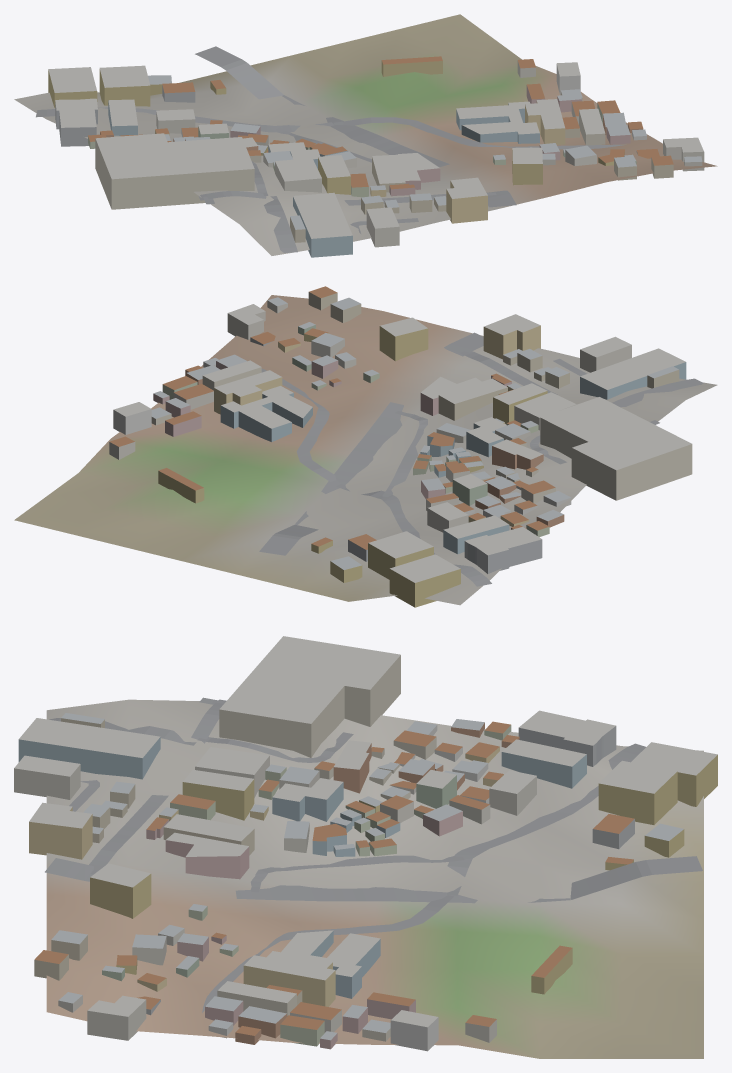
3 renders of one model, top to bottom at view 1: azimuth 30°, elevation 25°; view 2: azimuth 150°, elevation 25°; view 3: azimuth 270°, elevation 25°, orthographic. The views are drawn at different scales.
Parts seen in each view (by area): view 1: Lo; view 2: Lo; view 3: Lo.
Part boxes in pixels (left/top/right/bottom): Lo: left=14, top=14, right=717, bottom=257; Lo: left=14, top=286, right=717, bottom=607; Lo: left=14, top=636, right=717, bottom=1058.
Bounding box in the file's own units: 302 × 44.34 × 274.
